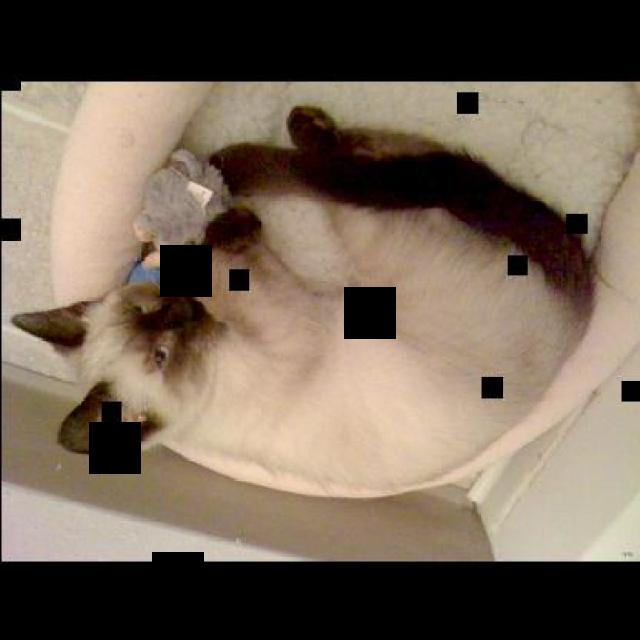unauthorized: (11, 103, 598, 499)
